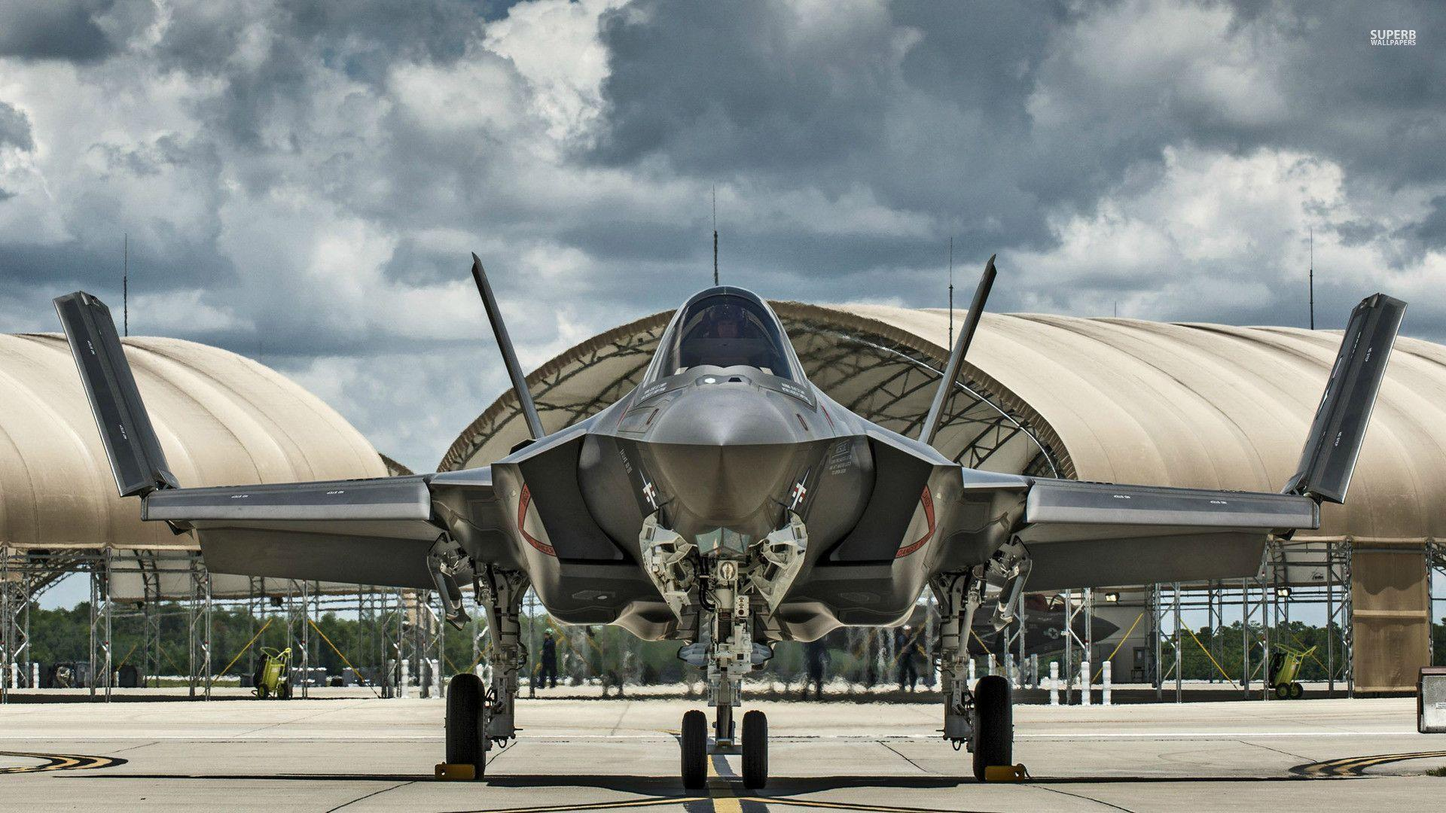F35: (49, 247, 1410, 794)
